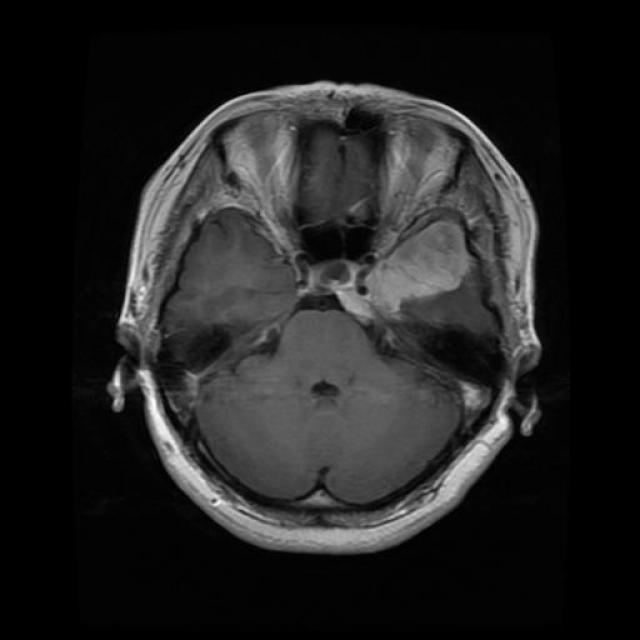Tumor: (369, 222, 470, 318)
